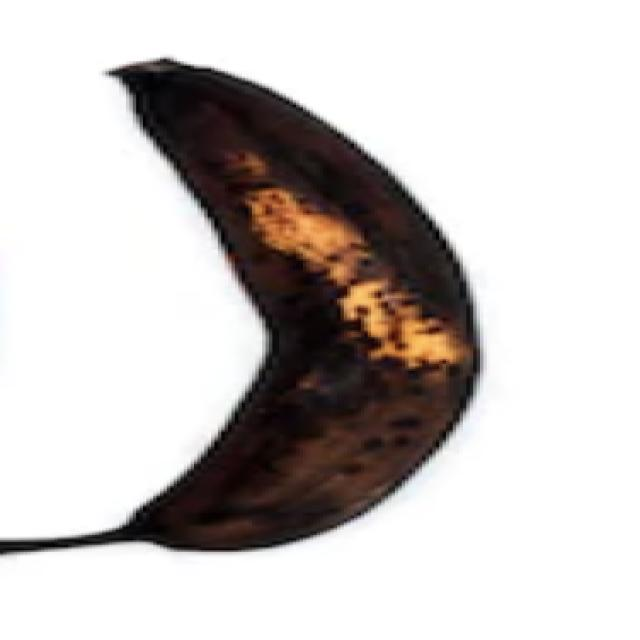Rotten: (45, 42, 510, 574)
